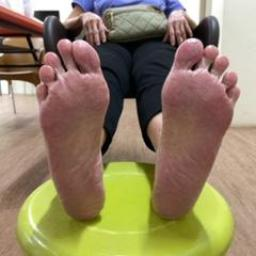Plantar View -Both Feet-: (17, 28, 248, 244)
